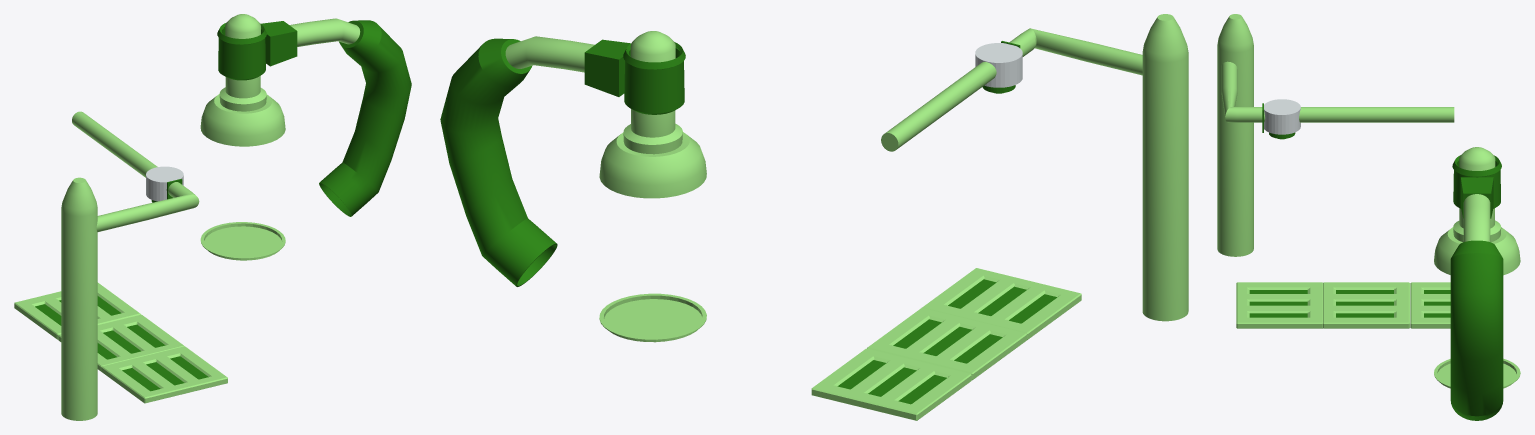
The model's file is coffee_stuck_cup1.fbx.
The picture shows the model from 3 angles, left to right: view 1: azimuth 30°, elevation 25°; view 2: azimuth 150°, elevation 25°; view 3: azimuth 270°, elevation 25°; orthographic projection. The views are drawn at different scales.
Visible parts, largest first — view 1: closing _mechanism, boru, grill, close_m 2, fountain; view 2: closing _mechanism, boru, grill, close_m 2, fountain; view 3: closing _mechanism, boru, grill, close_m 2, fountain.
Part boxes in pixels (left/top/right/bottom): closing _mechanism: left=217, top=18, right=411, bottom=216; boru: left=61, top=111, right=199, bottom=420; grill: left=14, top=282, right=227, bottom=403; close_m 2: left=200, top=14, right=285, bottom=260; fountain: left=146, top=166, right=183, bottom=202; closing _mechanism: left=440, top=36, right=685, bottom=286; boru: left=881, top=14, right=1188, bottom=321; grill: left=811, top=268, right=1081, bottom=420; close_m 2: left=599, top=31, right=706, bottom=342; fountain: left=975, top=41, right=1022, bottom=93; closing _mechanism: left=1450, top=155, right=1503, bottom=420; boru: left=1217, top=14, right=1454, bottom=256; grill: left=1236, top=282, right=1450, bottom=328; close_m 2: left=1434, top=147, right=1520, bottom=388; fountain: left=1262, top=99, right=1300, bottom=139.
Bounding box in the file's own units: 748 × 379 × 424.
